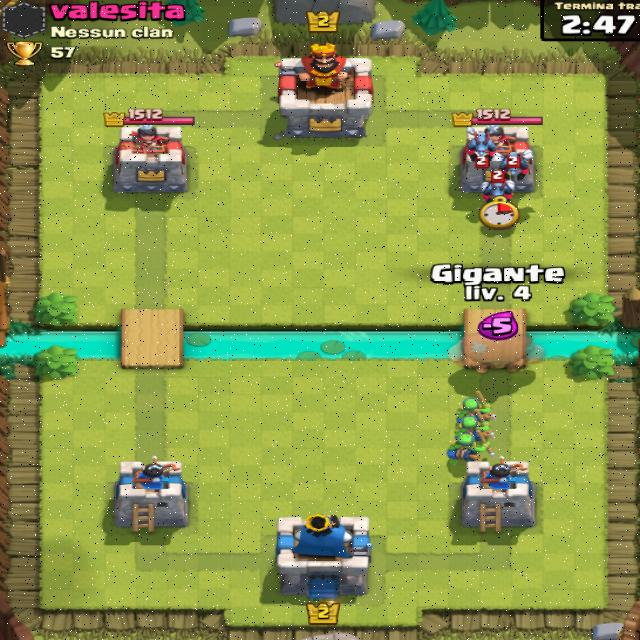Enemy-Minion: (497, 144, 538, 186), (474, 174, 520, 205), (468, 150, 493, 180)
Player-SpearGoblin: (426, 433, 500, 466), (443, 412, 497, 437), (454, 394, 498, 422)
